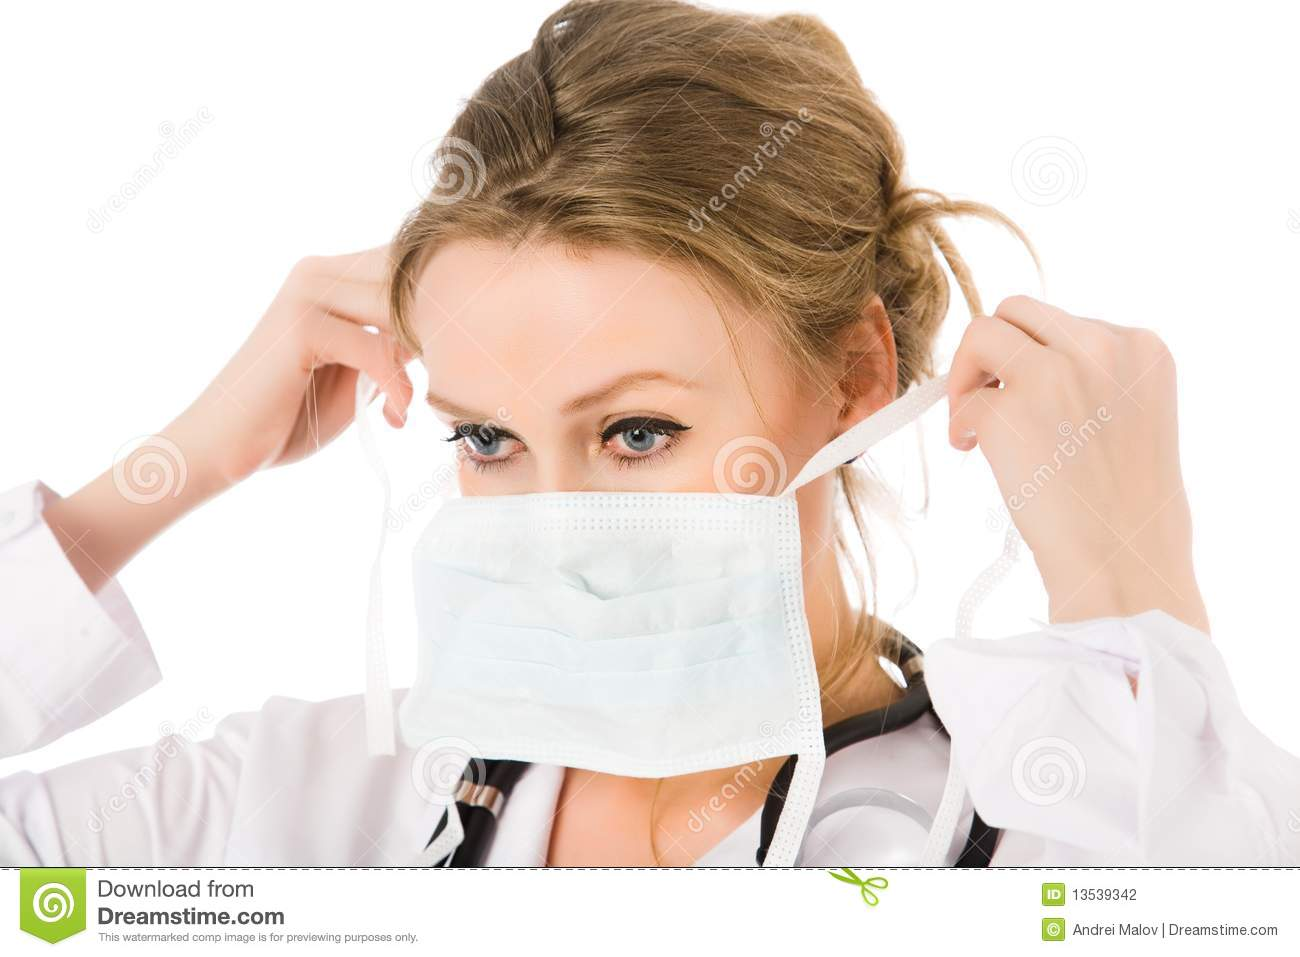mask: (375, 486, 861, 789)
